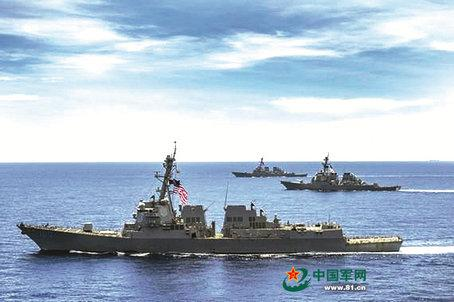warship: (13, 142, 403, 261), (276, 148, 400, 193), (232, 156, 308, 179)
